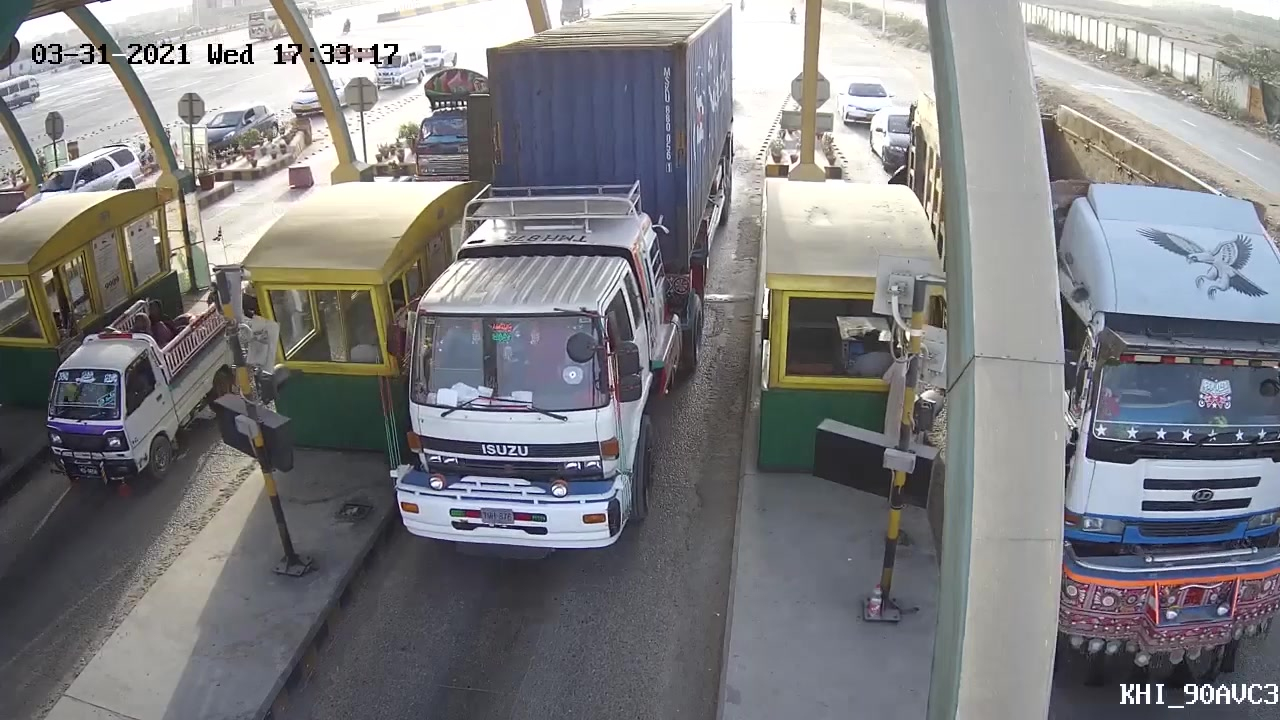F6: (360, 9, 750, 557)
